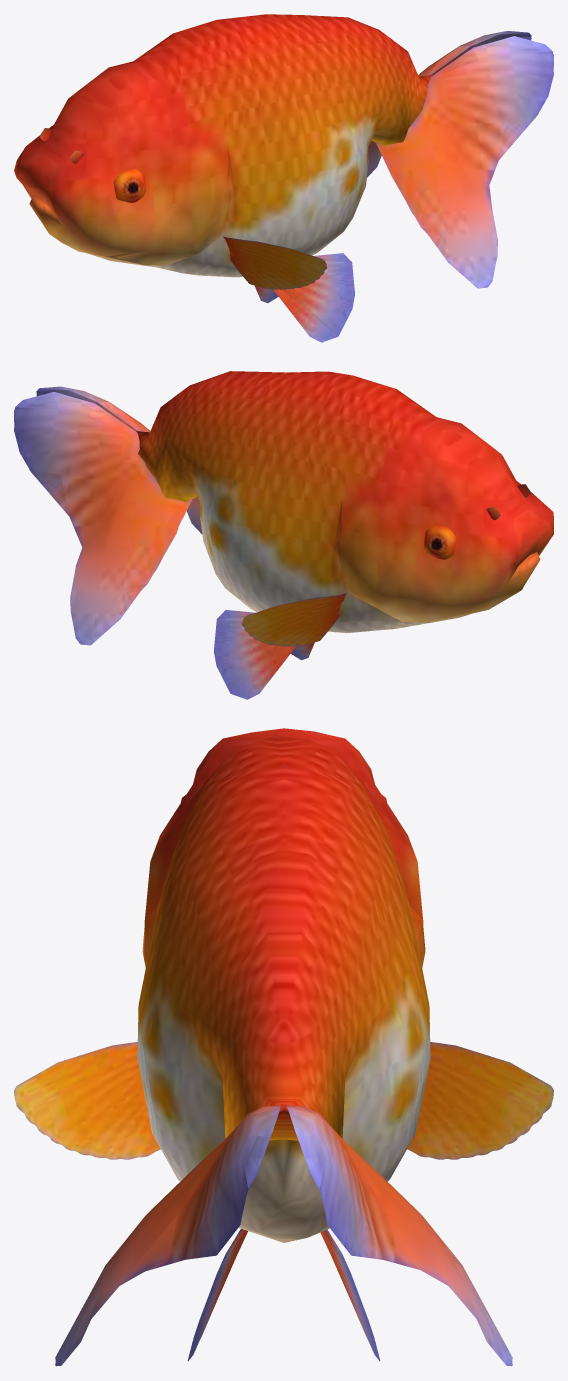
Rendered from goldfish.obj.
3 renders of one model, top to bottom at view 1: azimuth 30°, elevation 25°; view 2: azimuth 150°, elevation 25°; view 3: azimuth 270°, elevation 25°, orthographic. The views are drawn at different scales.
Parts seen in each view (by area): view 1: object, object8, object4, object2, object9, object10; view 2: object, object9, object5, object3, object8, object11; view 3: object, object8, object9, object2, object3, object4, object5.
Boxes of the visible parts, box(x1,y1,x2,y2) form: object: box(14, 14, 431, 277); object8: box(375, 36, 553, 288); object4: box(273, 253, 354, 342); object2: box(223, 236, 326, 289); object9: box(367, 31, 531, 177); object10: box(113, 169, 145, 202); object: box(136, 371, 553, 633); object9: box(14, 392, 192, 645); object5: box(214, 610, 295, 699); object3: box(242, 593, 346, 646); object8: box(36, 386, 202, 534); object11: box(424, 525, 456, 559); object: box(137, 728, 430, 1242); object8: box(55, 1105, 280, 1366); object9: box(287, 1105, 512, 1366); object2: box(14, 1042, 160, 1159); object3: box(407, 1042, 553, 1159); object4: box(187, 1229, 247, 1360); object5: box(320, 1229, 380, 1360).
Size of the model in its own units: 398 by 236 by 217.
